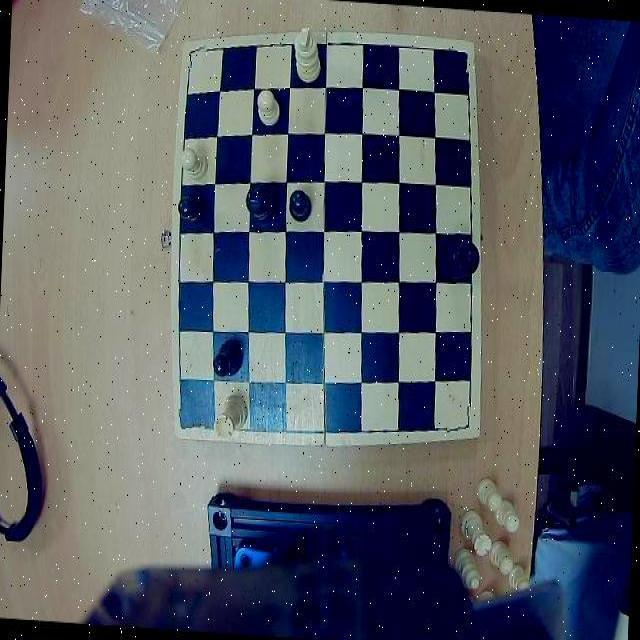chess-table-corners: (446, 406, 478, 438), (174, 406, 206, 436), (448, 43, 477, 73), (182, 40, 208, 70)
